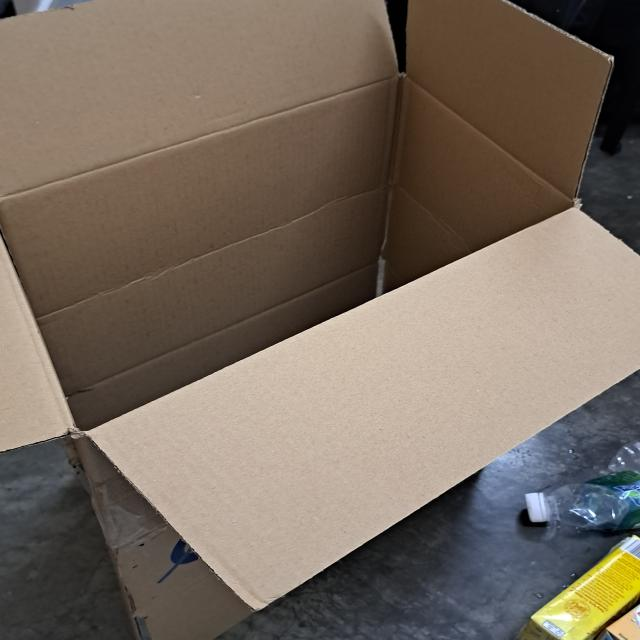cardboard: (0, 0, 640, 640)
drink carton: (524, 535, 640, 640)
plastic bottle: (548, 443, 640, 530)
plastic bottle cap: (523, 492, 548, 522)
